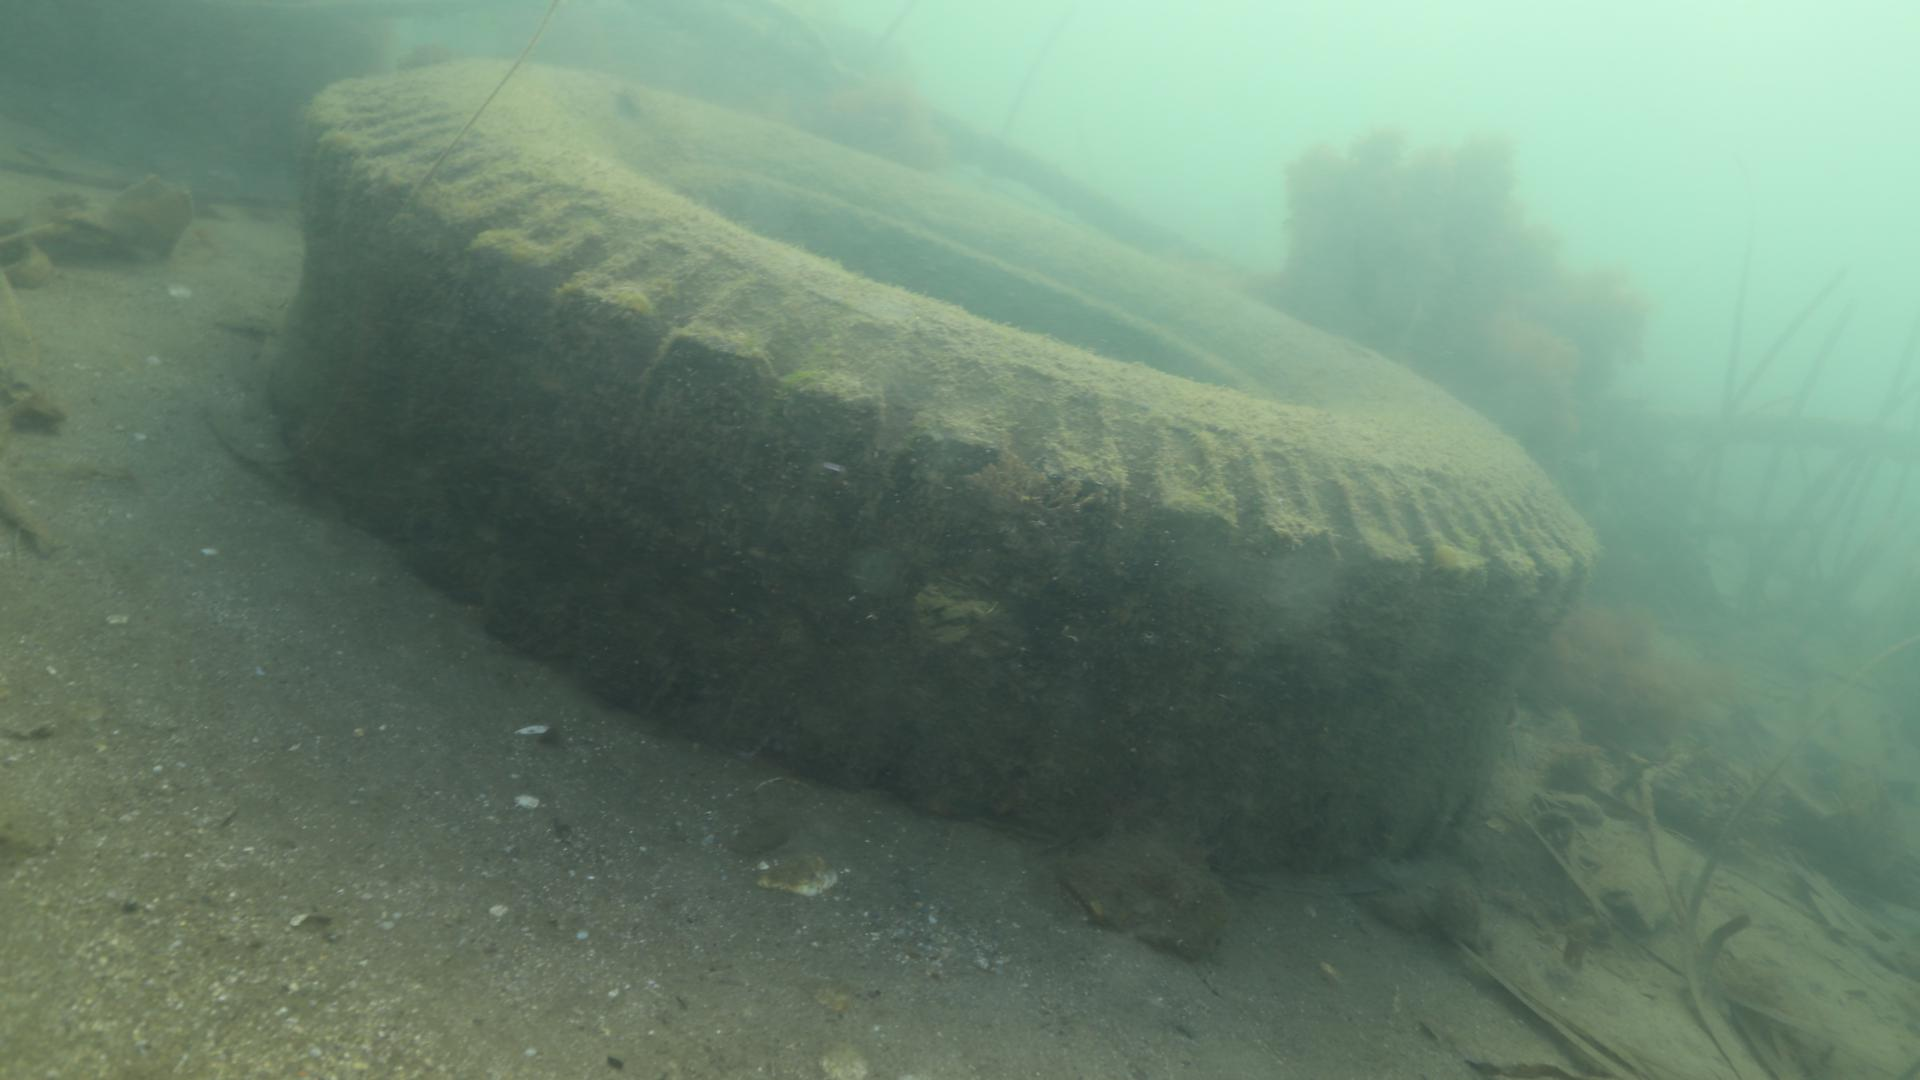tire: (262, 51, 1607, 860)
